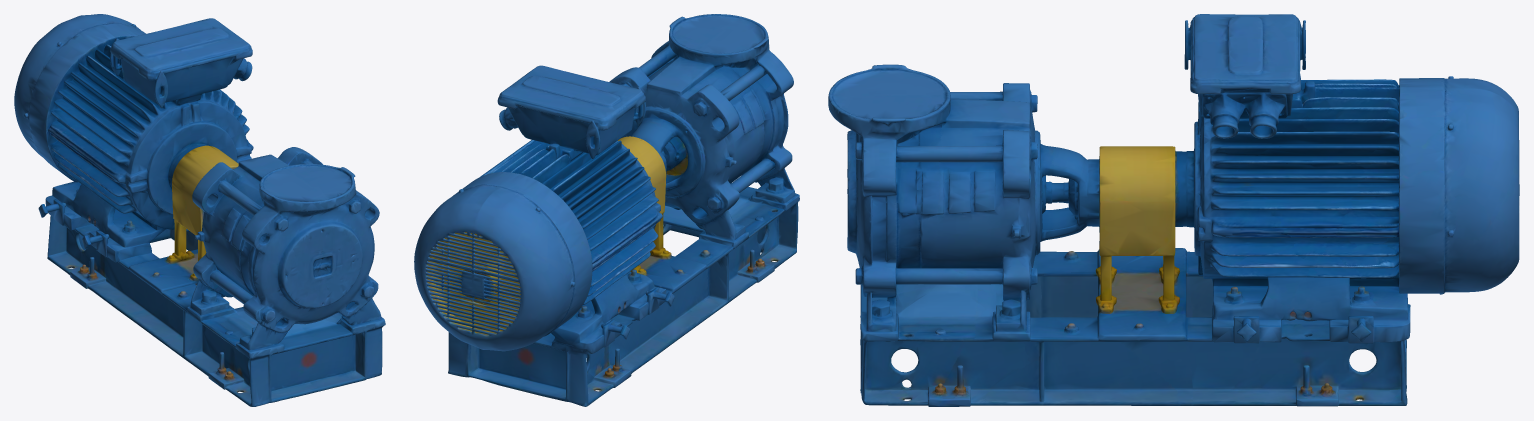
File: pump.glb
3 renders of one model, left to right at view 1: azimuth 30°, elevation 25°; view 2: azimuth 150°, elevation 25°; view 3: azimuth 270°, elevation 25°, orthographic. The views are drawn at different scales.
Visible parts, largest first — view 1: aiprintgen_node_aebfc80a-b31f-470c-a982-07047dbabd04; view 2: aiprintgen_node_aebfc80a-b31f-470c-a982-07047dbabd04; view 3: aiprintgen_node_aebfc80a-b31f-470c-a982-07047dbabd04.
Boxes of the visible parts, box(x1,y1,x2,y2) form: aiprintgen_node_aebfc80a-b31f-470c-a982-07047dbabd04: box(14, 14, 385, 406); aiprintgen_node_aebfc80a-b31f-470c-a982-07047dbabd04: box(414, 14, 799, 406); aiprintgen_node_aebfc80a-b31f-470c-a982-07047dbabd04: box(828, 14, 1519, 406).
Bounding box in the file's own units: 0.3983 × 0.5197 × 0.9999.
1 material, 1 textured.
